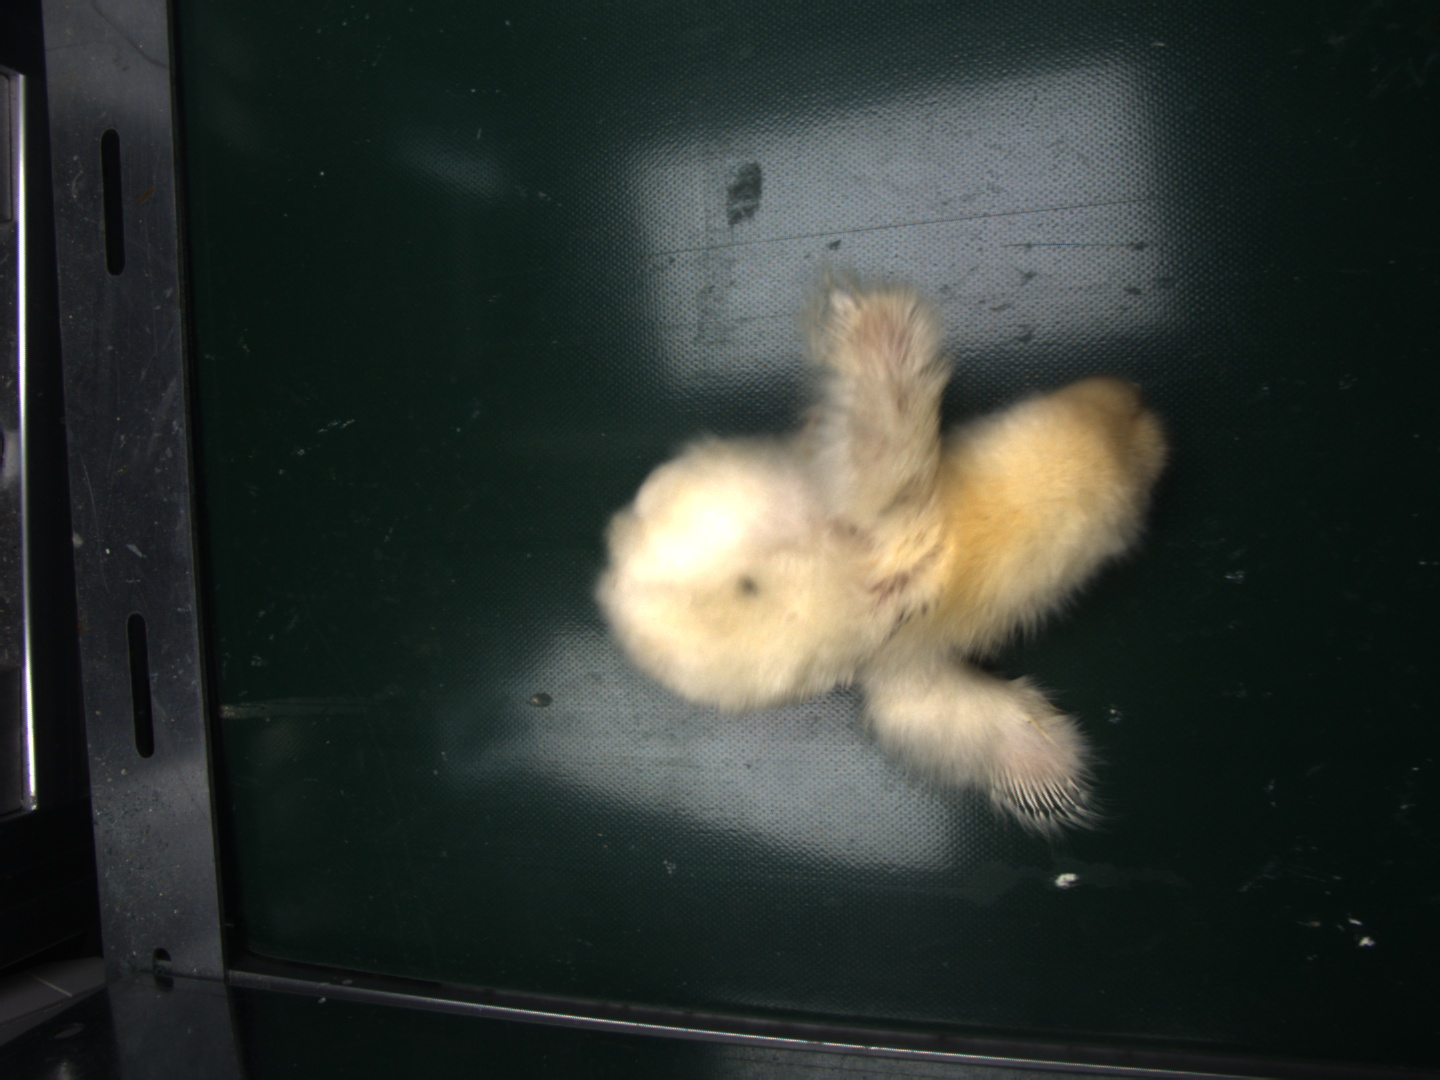male: (999, 773, 1077, 813)
